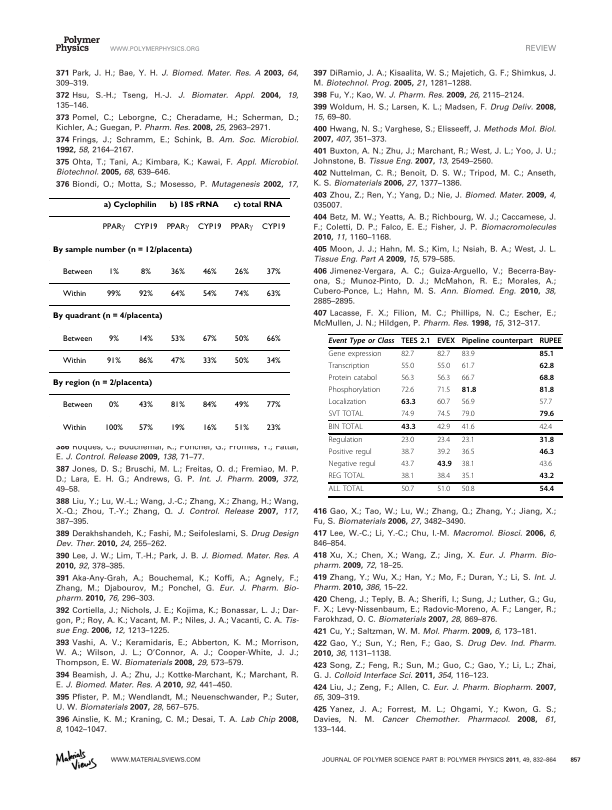borderless: (47, 196, 291, 440), (327, 333, 562, 496)
cell: (51, 245, 193, 255), (51, 312, 163, 321), (51, 379, 153, 388), (461, 337, 534, 346), (328, 337, 395, 346), (328, 350, 382, 360), (328, 386, 381, 396), (101, 212, 125, 234), (165, 212, 189, 234), (229, 212, 253, 234), (328, 374, 378, 384), (102, 201, 157, 210), (328, 460, 377, 470), (168, 201, 219, 210), (232, 201, 283, 210), (328, 448, 373, 458), (328, 362, 370, 372), (328, 398, 367, 408), (328, 472, 365, 482), (328, 423, 364, 433), (328, 436, 364, 446), (328, 486, 365, 495), (328, 410, 364, 419), (400, 337, 431, 346), (61, 267, 93, 275), (61, 334, 93, 342), (61, 401, 93, 409), (538, 337, 563, 346), (61, 356, 87, 364), (61, 423, 87, 431), (133, 223, 158, 231), (197, 223, 222, 231), (261, 223, 286, 231), (61, 290, 87, 297), (436, 337, 456, 346), (538, 436, 555, 446), (538, 448, 555, 458), (436, 460, 453, 470), (538, 472, 555, 482), (103, 423, 123, 431), (538, 350, 555, 359), (538, 362, 555, 371), (538, 374, 555, 383), (538, 386, 555, 395), (400, 398, 417, 407), (538, 410, 555, 419), (400, 423, 417, 432), (538, 486, 555, 495), (400, 350, 415, 360), (436, 350, 451, 360), (400, 362, 415, 372), (436, 362, 451, 372), (400, 374, 415, 384), (436, 374, 451, 384), (400, 386, 415, 396), (436, 386, 451, 396), (436, 398, 451, 408), (538, 398, 553, 408), (436, 423, 451, 433), (538, 423, 553, 433), (400, 436, 415, 446), (436, 436, 451, 446), (400, 448, 415, 458), (436, 448, 451, 458), (400, 460, 415, 470), (538, 460, 553, 470), (400, 472, 415, 482), (436, 472, 451, 482), (461, 386, 477, 395), (461, 350, 475, 360), (461, 362, 475, 372), (461, 374, 475, 384), (461, 398, 475, 408), (461, 423, 475, 433), (461, 436, 475, 446), (461, 448, 475, 458), (461, 460, 475, 470), (461, 472, 475, 482), (400, 410, 415, 419), (436, 410, 451, 419), (400, 486, 415, 495), (436, 486, 451, 495), (169, 267, 185, 275), (201, 267, 217, 275), (233, 267, 249, 275), (265, 267, 281, 275), (137, 334, 153, 342), (169, 334, 185, 342), (201, 334, 217, 342), (233, 334, 249, 342), (265, 334, 281, 342), (105, 356, 121, 364), (137, 356, 153, 364), (169, 356, 185, 364), (201, 356, 217, 364), (233, 356, 249, 364), (265, 356, 281, 364), (137, 401, 153, 409), (169, 401, 185, 409), (201, 401, 217, 409), (233, 401, 249, 409), (265, 401, 281, 409), (137, 423, 153, 431), (169, 423, 185, 431), (201, 423, 217, 431), (233, 423, 249, 431), (265, 423, 281, 431), (461, 410, 475, 419), (461, 486, 475, 495), (105, 290, 121, 297), (137, 290, 153, 297), (169, 290, 185, 297), (201, 290, 217, 297), (233, 290, 249, 297), (265, 290, 281, 297), (108, 267, 119, 275), (140, 267, 151, 275), (108, 334, 119, 342), (108, 401, 119, 409)
